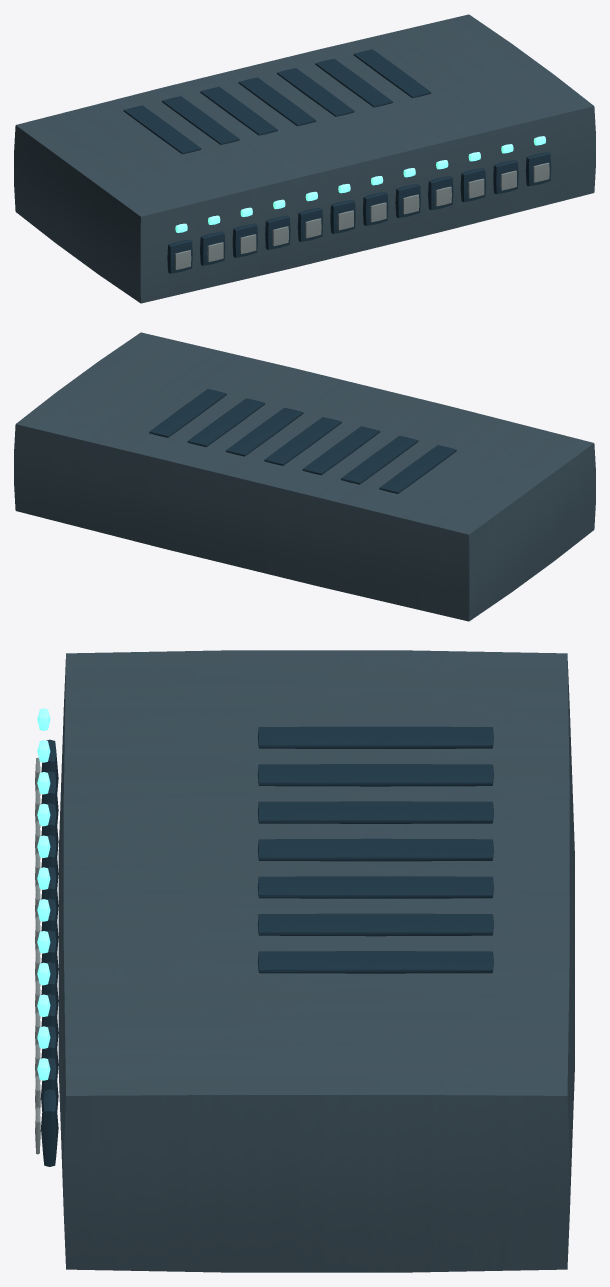
File: switch.glb
3 renders of one model, top to bottom at view 1: azimuth 30°, elevation 25°; view 2: azimuth 150°, elevation 25°; view 3: azimuth 270°, elevation 25°, orthographic. The views are drawn at different scales.
Parts seen in each view (by area): view 1: switch; view 2: switch; view 3: switch.
Part boxes in pixels (box(x1,y1,x2,y2)): switch: box(14, 14, 595, 303); switch: box(14, 332, 595, 621); switch: box(35, 650, 574, 1272).
Bounding box in the file's own units: 0.72 × 0.146 × 0.366.
Materials: 44 (44 with a texture image).
